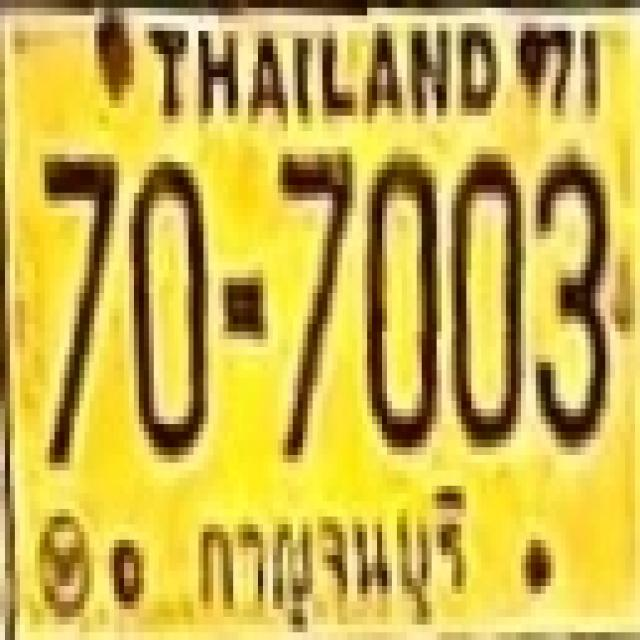0: (126, 158, 206, 451), (362, 147, 437, 447), (446, 146, 521, 440)
3: (531, 146, 605, 440)
7: (275, 146, 350, 455), (40, 150, 114, 459), (40, 150, 114, 397), (40, 146, 114, 354)
KRI: (188, 474, 476, 633)
